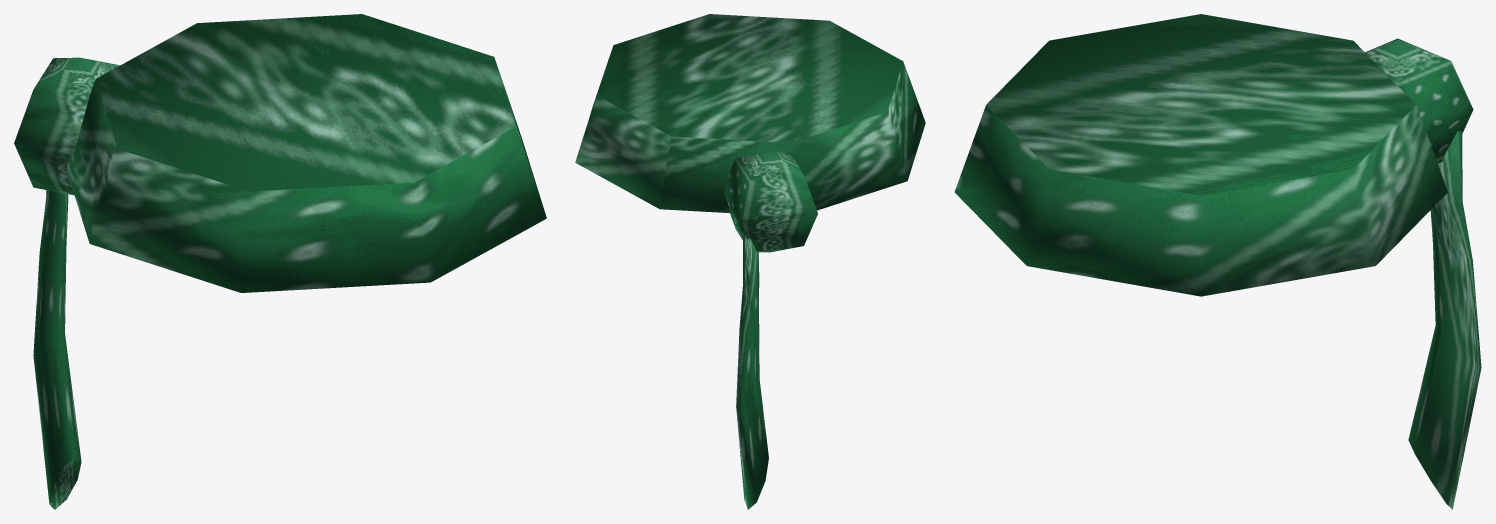
Rendered from Bandana.glb.
3 views of the same model, side by side, from view 1: azimuth 30°, elevation 25°; view 2: azimuth 150°, elevation 25°; view 3: azimuth 270°, elevation 25° (orthographic). The views are drawn at different scales.
Parts seen in each view (by area): view 1: Bandana; view 2: Bandana; view 3: Bandana.
Part boxes in pixels (left/top/right/bottom): Bandana: left=14, top=14, right=546, bottom=509; Bandana: left=575, top=14, right=925, bottom=509; Bandana: left=954, top=14, right=1481, bottom=509.
Size of the model in its own units: 2.27 by 2.37 by 2.42.
Materials: 1 (1 with a texture image).
